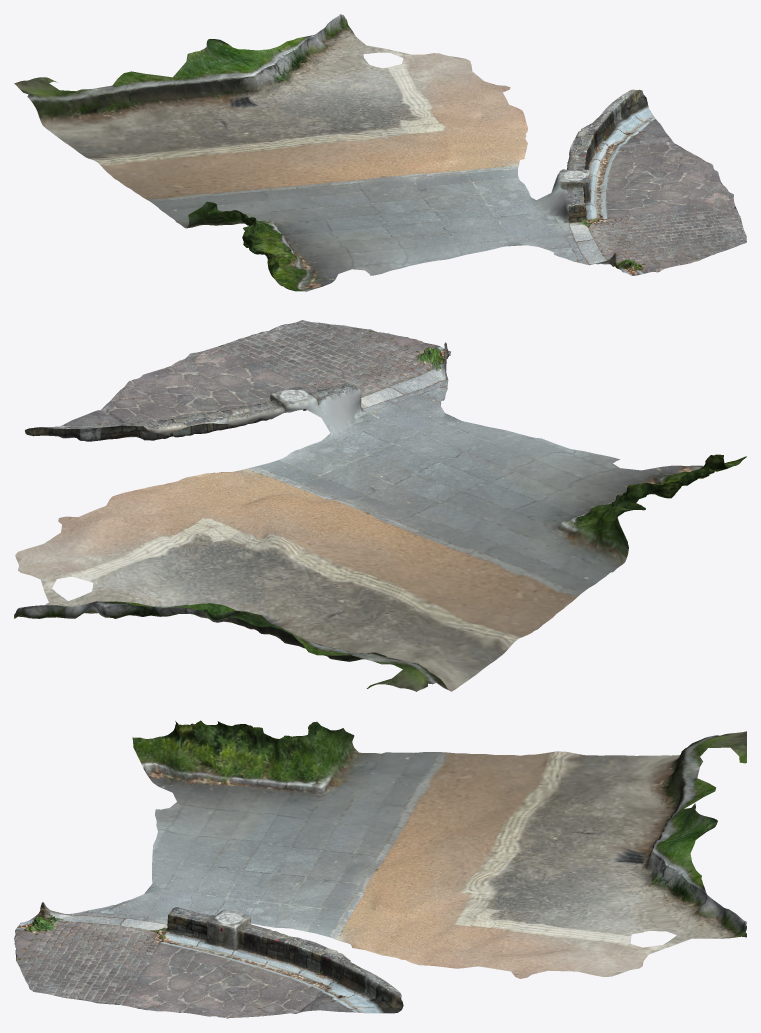
3 views of the same model, one above another, from view 1: azimuth 30°, elevation 25°; view 2: azimuth 150°, elevation 25°; view 3: azimuth 270°, elevation 25° (orthographic). The views are drawn at different scales.
Parts seen in each view (by area): view 1: baked_mesh_04bc68de; view 2: baked_mesh_04bc68de; view 3: baked_mesh_04bc68de.
Part boxes in pixels (box(x1,y1,x2,y2)): baked_mesh_04bc68de: box(14, 14, 746, 291); baked_mesh_04bc68de: box(14, 320, 746, 691); baked_mesh_04bc68de: box(14, 720, 746, 1018).
Size of the model in its own units: 5.02 by 0.3895 by 5.93.
1 material, 1 textured.
